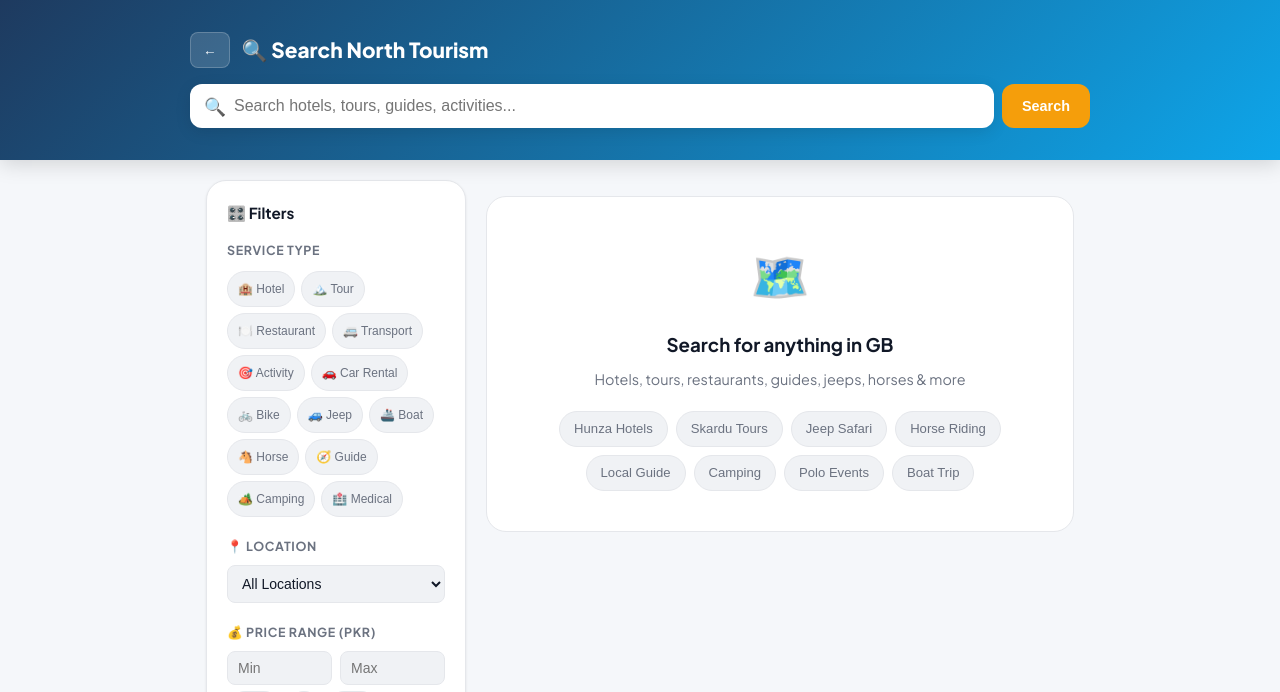
Test case: Search page › shows empty state when no results found
Click the button "Search": (1046, 106) x1=1002 y1=84 x2=1090 y2=128
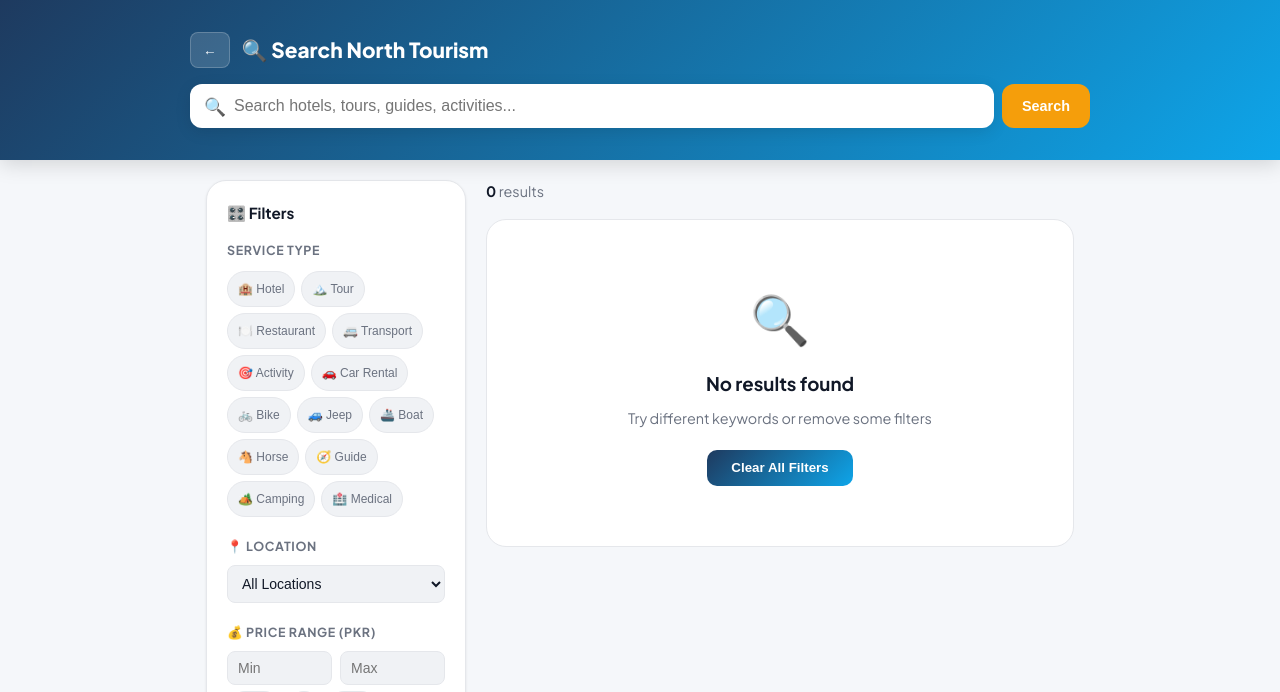
Expected: the heading "No results found" is shown, x1=706 y1=372 x2=854 y2=395
Expected: the text "Try different keywords or remove some filters" is shown, x1=628 y1=409 x2=932 y2=427
